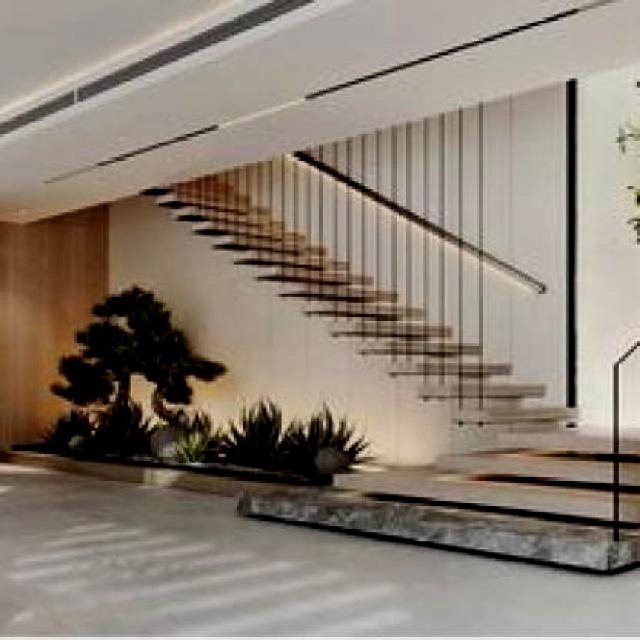stair: (215, 425, 640, 530)
